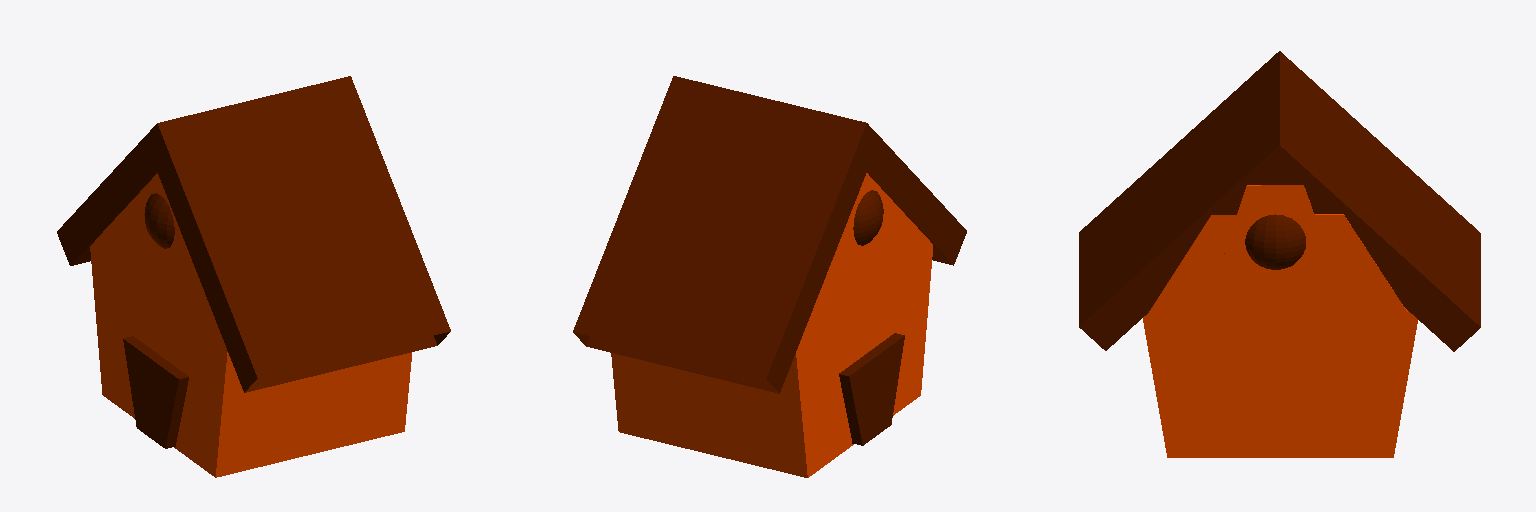
File: House.obj
3 renders of one model, left to right at view 1: azimuth 30°, elevation 25°; view 2: azimuth 150°, elevation 25°; view 3: azimuth 270°, elevation 25°, orthographic.
Parts seen in each view (by area): view 1: pCube3, pCube1, pCube4, pCube6, pCube8, pSphere1, pCube5; view 2: pCube4, pCube1, pCube6, pCube8, pCube3, pSphere1, pCube5; view 3: pCube1, pCube4, pCube3, pCube7, pCube9, pSphere2.
Part boxes in pixels (x1,y1,x2,y2): pCube3: (152, 98, 450, 392); pCube1: (90, 242, 411, 477); pCube4: (57, 76, 358, 265); pCube6: (95, 195, 220, 334); pCube8: (123, 336, 188, 448); pSphere1: (144, 193, 174, 248); pCube5: (132, 173, 187, 263); pCube4: (573, 76, 880, 393); pCube1: (611, 242, 932, 477); pCube6: (803, 199, 929, 333); pCube8: (839, 333, 904, 445); pCube3: (867, 135, 966, 265); pSphere1: (853, 190, 883, 245); pCube5: (839, 173, 894, 259); pCube1: (1143, 310, 1417, 457); pCube4: (1255, 51, 1480, 351); pCube3: (1079, 66, 1287, 350); pCube7: (1149, 214, 1407, 312); pCube9: (1221, 185, 1331, 265); pSphere2: (1245, 214, 1305, 269).
Bounding box in the file's own units: 6.57 × 9.08 × 10.54.